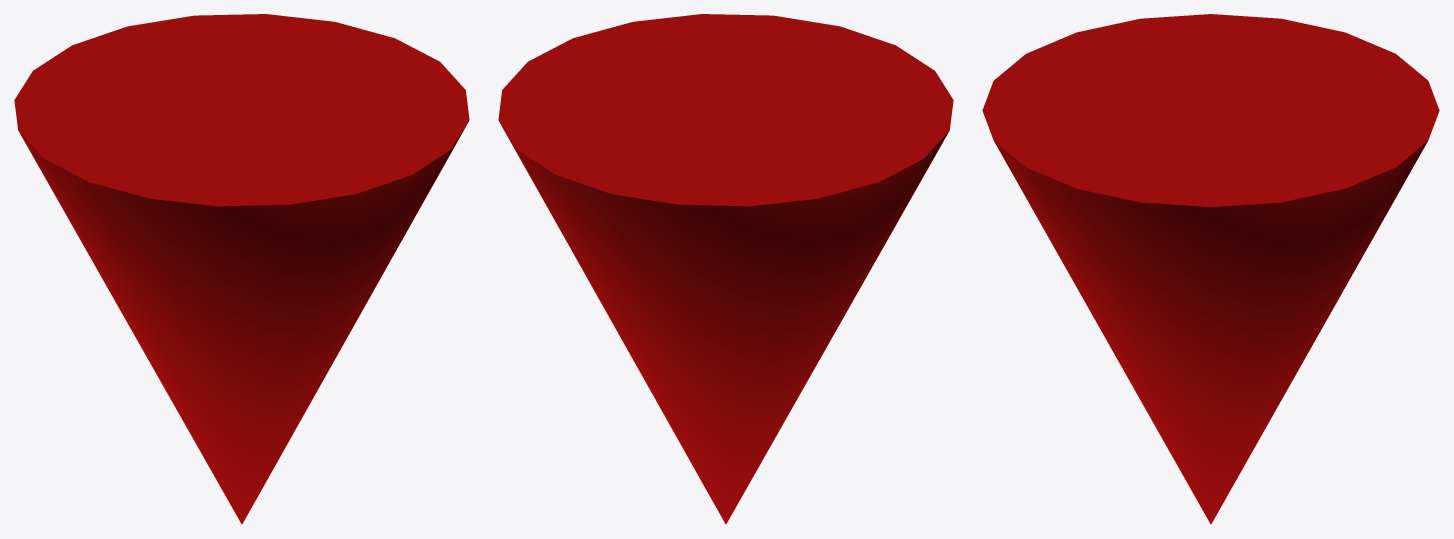
Rendered from Mark.fbx.
The picture shows the model from 3 angles, left to right: view 1: azimuth 30°, elevation 25°; view 2: azimuth 150°, elevation 25°; view 3: azimuth 270°, elevation 25°; orthographic projection.
Parts seen in each view (by area): view 1: pCone1; view 2: pCone1; view 3: pCone1.
Part boxes in pixels (left/top/right/bottom): pCone1: left=14, top=14, right=469, bottom=524; pCone1: left=498, top=14, right=953, bottom=524; pCone1: left=982, top=14, right=1439, bottom=524.
Size of the model in its own units: 0.4 by 0.4 by 0.4.
